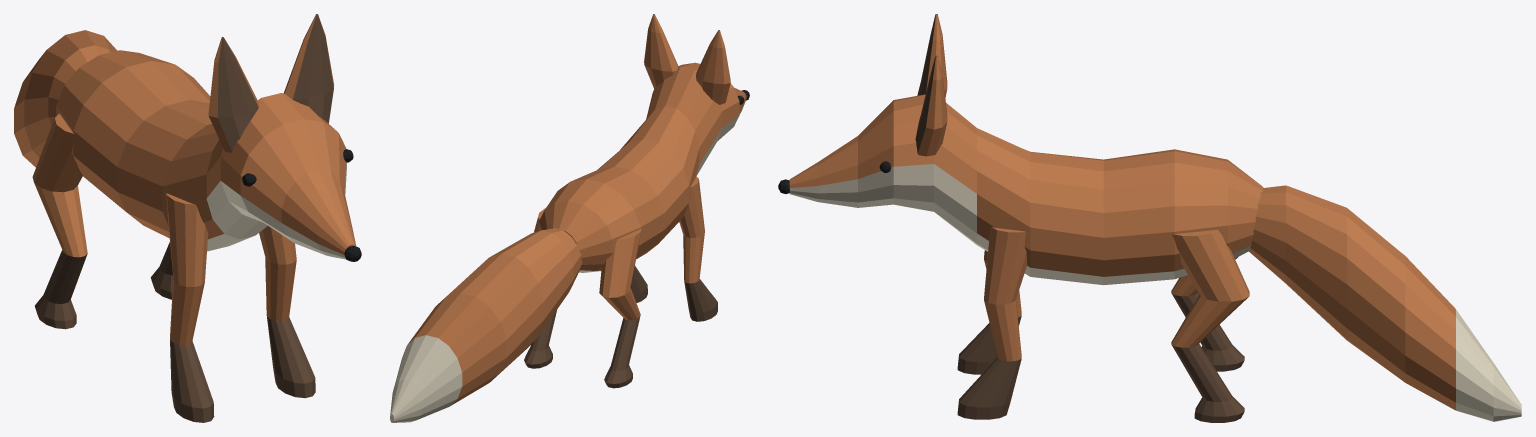
3 renders of one model, left to right at view 1: azimuth 30°, elevation 25°; view 2: azimuth 150°, elevation 25°; view 3: azimuth 270°, elevation 25°, orthographic. The views are drawn at different scales.
Visible parts, largest first — view 1: WholePointedMuzzleCheeksNeckAndLowCanineTorso, WholeBentFrontCanineLegAndPaw0, WholeBentRearCanineLegAndPaw0, WholeLongSideCurvingBushyTail, WholeBentFrontCanineLegAndPaw1, WholeTallTriangularFoxEar0, WholeTallTriangularFoxEar1, WholeBentRearCanineLegAndPaw1; view 2: WholeLongSideCurvingBushyTail, WholePointedMuzzleCheeksNeckAndLowCanineTorso, WholeBentRearCanineLegAndPaw0, WholeBentFrontCanineLegAndPaw0, WholeTallTriangularFoxEar0, WholeTallTriangularFoxEar1, WholeBentRearCanineLegAndPaw1, WholeBentFrontCanineLegAndPaw1; view 3: WholePointedMuzzleCheeksNeckAndLowCanineTorso, WholeLongSideCurvingBushyTail, WholeBentRearCanineLegAndPaw1, WholeBentFrontCanineLegAndPaw1, WholeTallTriangularFoxEar1, WholeBentRearCanineLegAndPaw0, WholeBentFrontCanineLegAndPaw0, WholeTallTriangularFoxEar0.
Part boxes in pixels (box(x1,y1,x2,y2)): WholePointedMuzzleCheeksNeckAndLowCanineTorso: box(56, 50, 355, 259); WholeBentFrontCanineLegAndPaw0: box(166, 193, 214, 422); WholeBentRearCanineLegAndPaw0: box(32, 113, 87, 329); WholeLongSideCurvingBushyTail: box(14, 30, 117, 167); WholeBentFrontCanineLegAndPaw1: box(259, 226, 315, 398); WholeTallTriangularFoxEar0: box(208, 37, 258, 152); WholeTallTriangularFoxEar1: box(283, 14, 334, 123); WholeBentRearCanineLegAndPaw1: box(150, 242, 173, 299); WholeLongSideCurvingBushyTail: box(390, 228, 582, 422); WholePointedMuzzleCheeksNeckAndLowCanineTorso: box(539, 62, 746, 272); WholeBentRearCanineLegAndPaw0: box(599, 228, 641, 388); WholeBentFrontCanineLegAndPaw0: box(679, 176, 717, 321); WholeTallTriangularFoxEar0: box(696, 30, 730, 104); WholeTallTriangularFoxEar1: box(644, 14, 678, 88); WholeBentRearCanineLegAndPaw1: box(524, 208, 556, 368); WholeBentFrontCanineLegAndPaw1: box(630, 266, 647, 302); WholePointedMuzzleCheeksNeckAndLowCanineTorso: box(789, 94, 1263, 285); WholeLongSideCurvingBushyTail: box(1249, 185, 1521, 421); WholeBentRearCanineLegAndPaw1: box(1171, 229, 1249, 422); WholeBentFrontCanineLegAndPaw1: box(957, 227, 1027, 419); WholeTallTriangularFoxEar1: box(915, 55, 947, 156); WholeBentRearCanineLegAndPaw0: box(1171, 257, 1244, 371); WholeBentFrontCanineLegAndPaw0: box(957, 250, 1021, 374); WholeTallTriangularFoxEar0: box(917, 14, 947, 97).
Bounding box in the file's own units: 0.8228 × 1.55 × 2.93.
